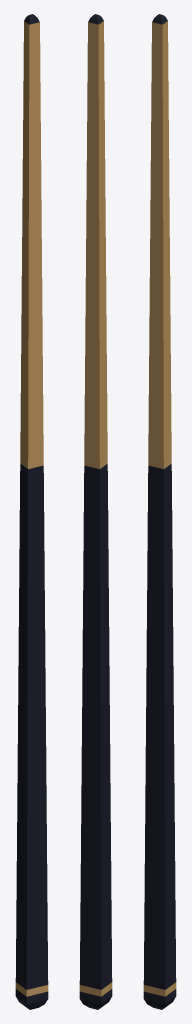
File: Fader_Pool_StickGuy.fbx
The picture shows the model from 3 angles, left to right: view 1: azimuth 30°, elevation 25°; view 2: azimuth 150°, elevation 25°; view 3: azimuth 330°, elevation 25°; orthographic projection.
Parts seen in each view (by area): view 1: Cube.005; view 2: Cube.005; view 3: Cube.005.
Part boxes in pixels (bbox=[...]): Cube.005: bbox=[15, 14, 48, 1009]; Cube.005: bbox=[79, 14, 112, 1009]; Cube.005: bbox=[143, 14, 176, 1009].
Size of the model in its own units: 3.99 by 175 by 3.5.
